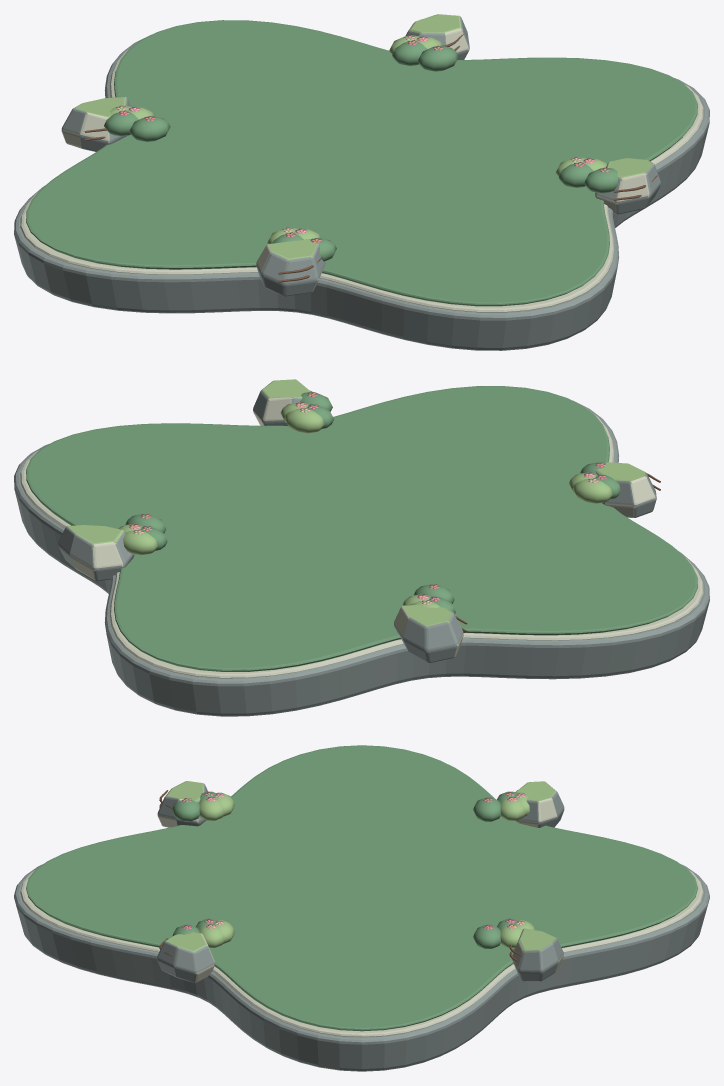
Rendered from hub_landscape.glb.
The picture shows the model from 3 angles, top to bottom: view 1: azimuth 30°, elevation 25°; view 2: azimuth 150°, elevation 25°; view 3: azimuth 270°, elevation 25°; orthographic projection. The views are drawn at different scales.
Parts seen in each view (by area): view 1: Merged Orchard sage grass, Merged Garden slate stone, Merged Worn ivory stepping stone, Merged Orchard moss tips, Merged Orchard exposed earth; view 2: Merged Orchard sage grass, Merged Garden slate stone, Merged Worn ivory stepping stone, Merged Orchard moss tips; view 3: Merged Orchard sage grass, Merged Garden slate stone, Merged Worn ivory stepping stone, Merged Orchard moss tips.
Boxes of the visible parts, x1=… form: Merged Orchard sage grass: x1=26, y1=20, x2=697, y2=306; Merged Garden slate stone: x1=14, y1=15, x2=709, y2=350; Merged Worn ivory stepping stone: x1=20, y1=22, x2=703, y2=312; Merged Orchard moss tips: x1=73, y1=14, x2=653, y2=260; Merged Orchard exposed earth: x1=84, y1=34, x2=657, y2=282; Merged Orchard sage grass: x1=26, y1=386, x2=697, y2=671; Merged Garden slate stone: x1=14, y1=381, x2=709, y2=716; Merged Worn ivory stepping stone: x1=20, y1=380, x2=703, y2=678; Merged Orchard moss tips: x1=67, y1=379, x2=645, y2=627; Merged Orchard sage grass: x1=26, y1=745, x2=697, y2=1031; Merged Garden slate stone: x1=14, y1=781, x2=709, y2=1071; Merged Worn ivory stepping stone: x1=20, y1=782, x2=703, y2=1036; Merged Orchard moss tips: x1=165, y1=781, x2=557, y2=952.
Size of the model in its own units: 12.65 by 1.36 by 12.65.
